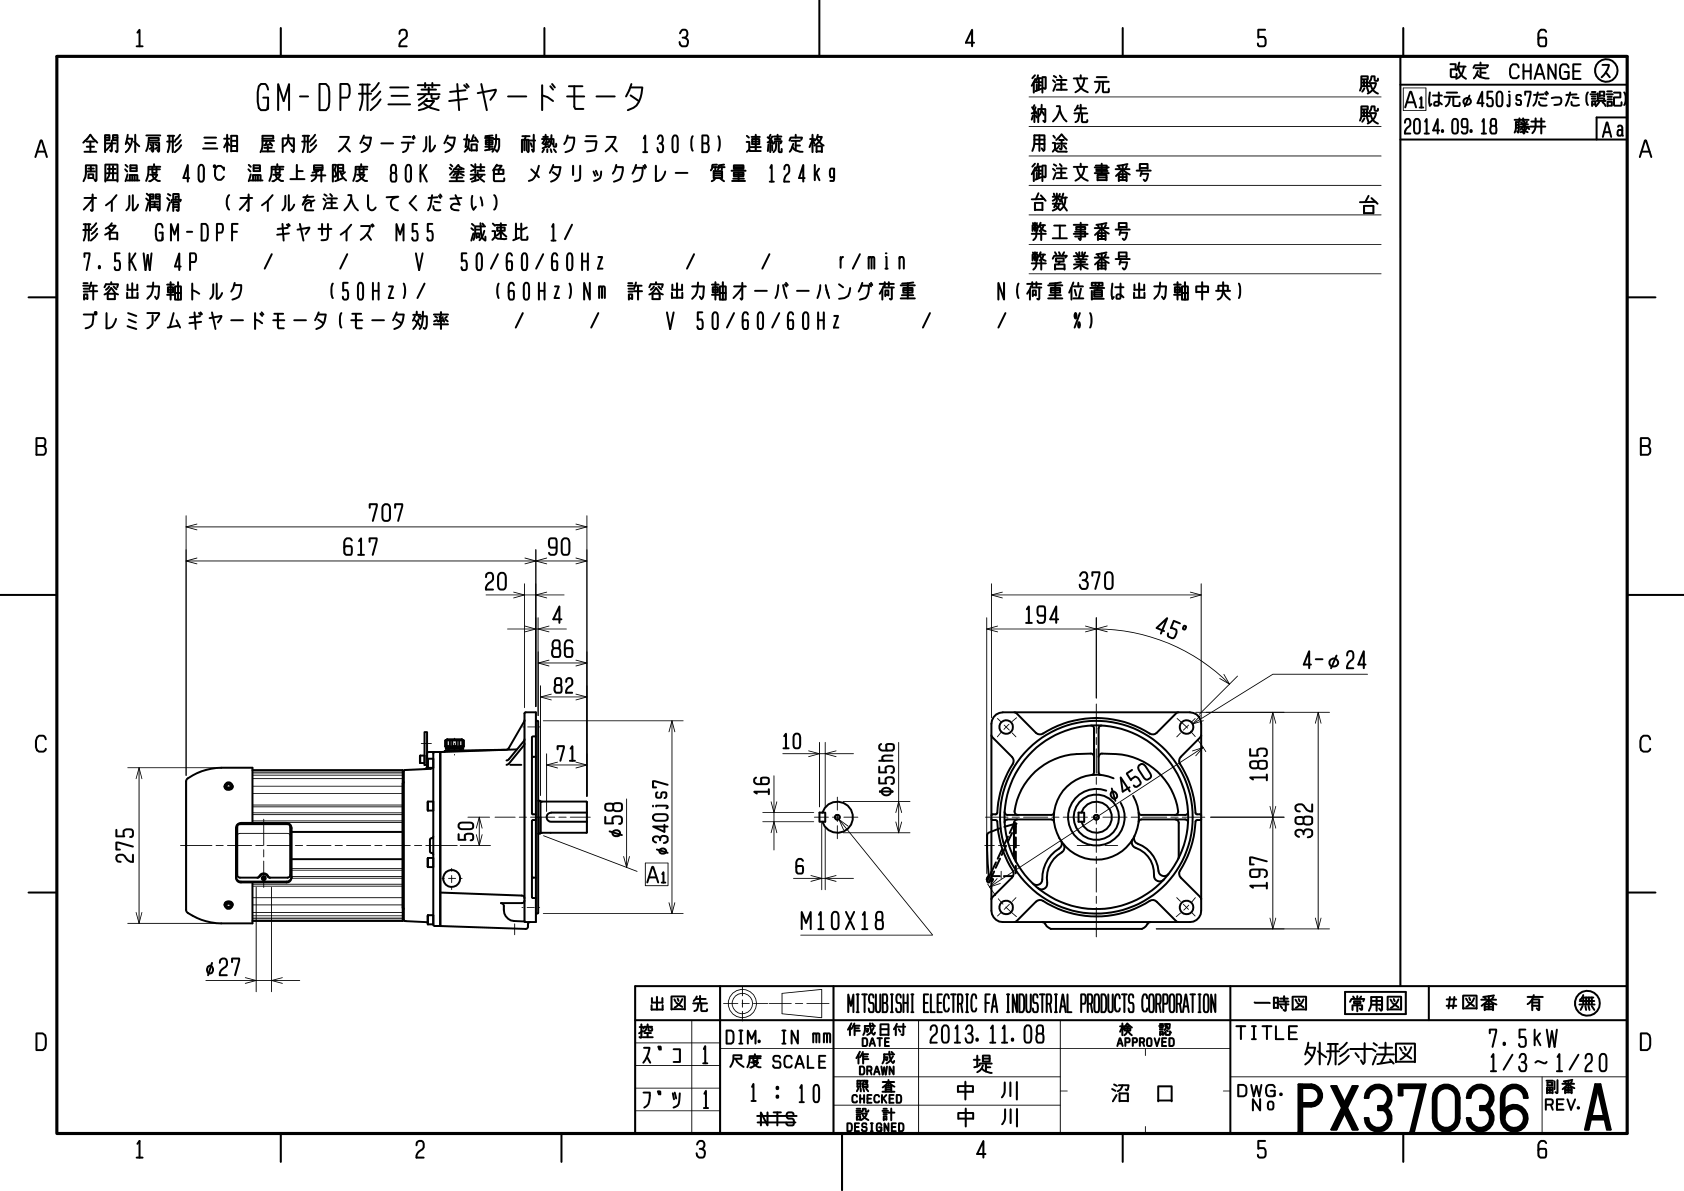GM_DP_屋内_三相_フランジ: (12, 8, 1684, 1191)
